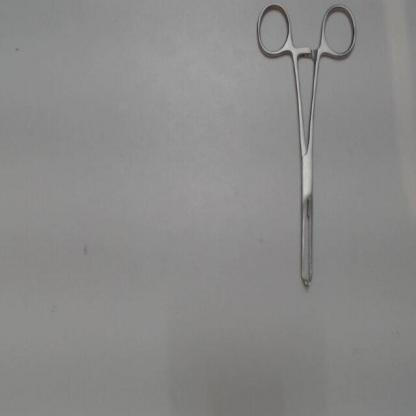Allis Tissue Forceps: (249, 1, 363, 296)
